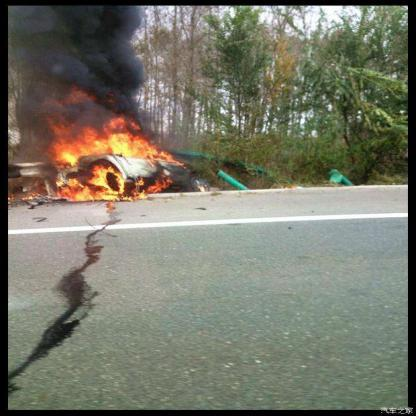fire: (45, 98, 183, 203)
